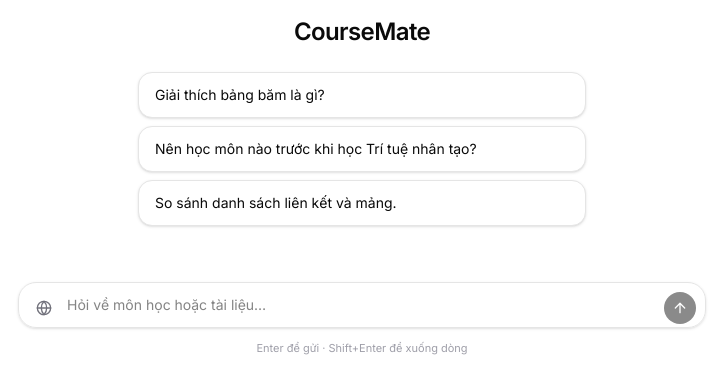
Test: ChatPage streaming › renders the persisted refusal as the amber card, not as an answer
Step 1. Type "câu hỏi mơ hồ" into the text box with placeholder "Hỏi về môn học hoặc tài liệu…" → (362, 305), box [18,282,706,328]
Then press Enter
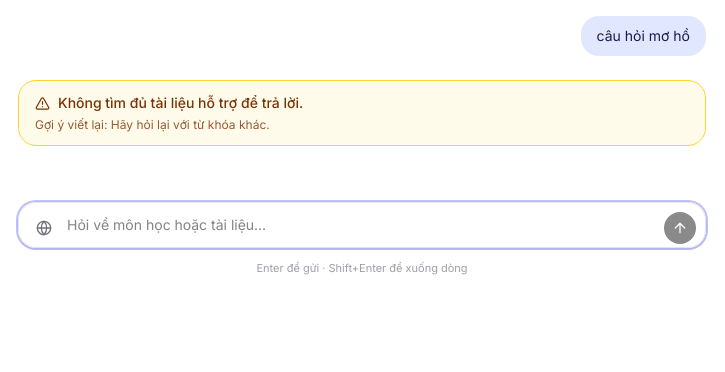
Expected: the text "Không tìm đủ tài liệu hỗ trợ để trả lời." is shown, [35,94,303,111]
Expected: the text "Gợi ý viết lại: Hãy hỏi lại với từ khóa khác." is shown, [35,117,270,132]
